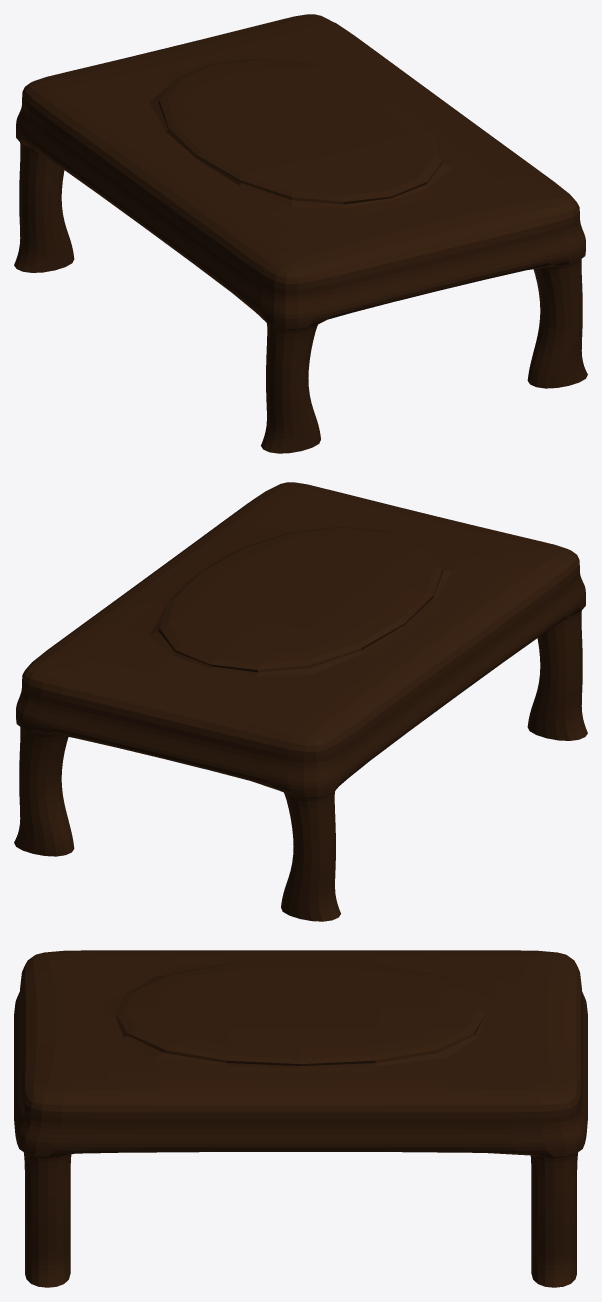
Rendered from WaTable.fbx.
The picture shows the model from 3 angles, top to bottom: view 1: azimuth 30°, elevation 25°; view 2: azimuth 150°, elevation 25°; view 3: azimuth 270°, elevation 25°; orthographic projection. The views are drawn at different scales.
Visible parts, largest first — view 1: Cube; view 2: Cube; view 3: Cube.
Boxes of the visible parts, box(x1,y1,x2,y2) form: Cube: box(14, 14, 587, 453); Cube: box(14, 482, 587, 921); Cube: box(14, 950, 587, 1287).
Size of the model in its own units: 70.94 by 41.16 by 107.
